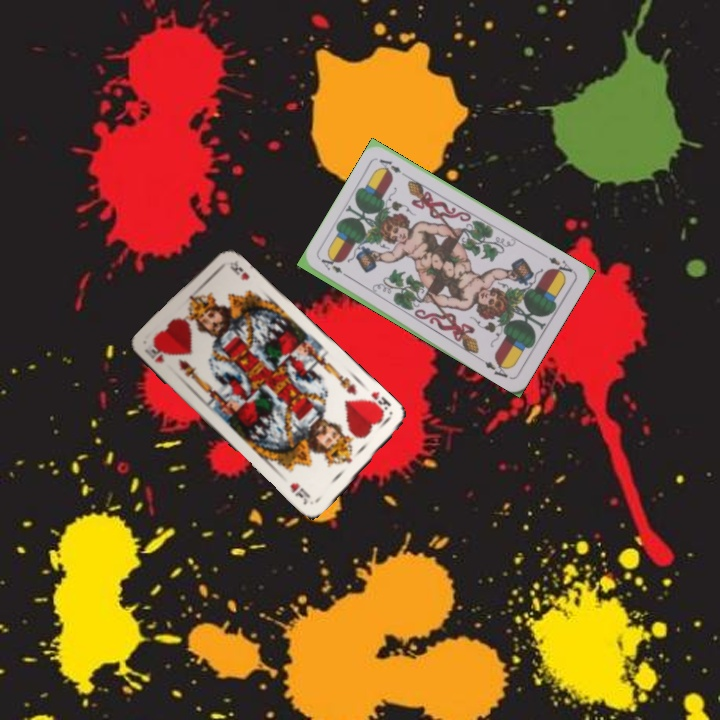EA: (317, 255, 353, 281), (545, 253, 576, 279)
HK: (360, 387, 394, 418), (141, 344, 167, 365)
